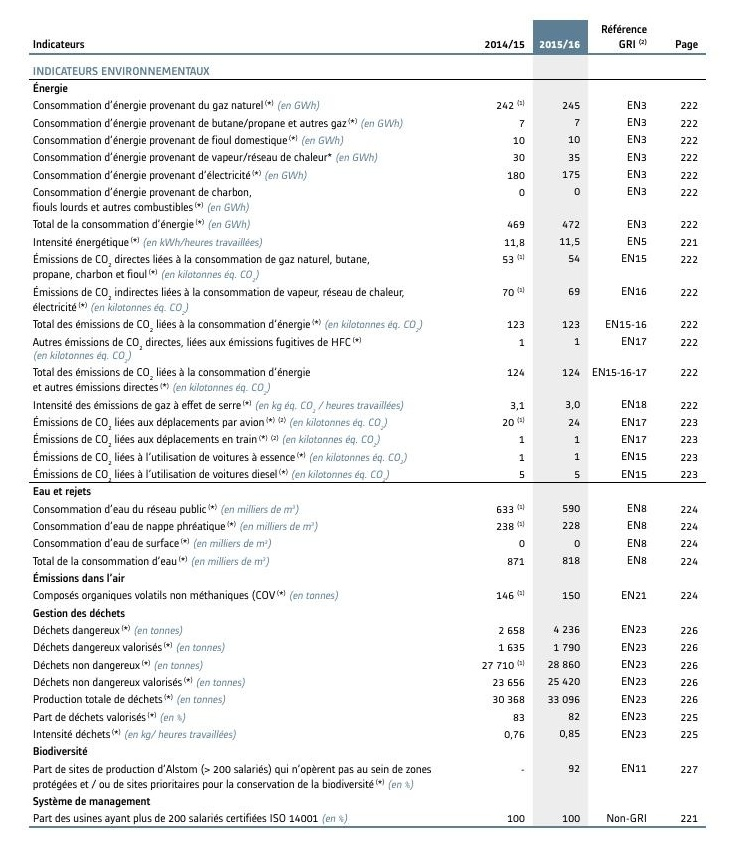table: (0, 0, 754, 851)
